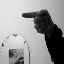g: (20, 8, 55, 35)
